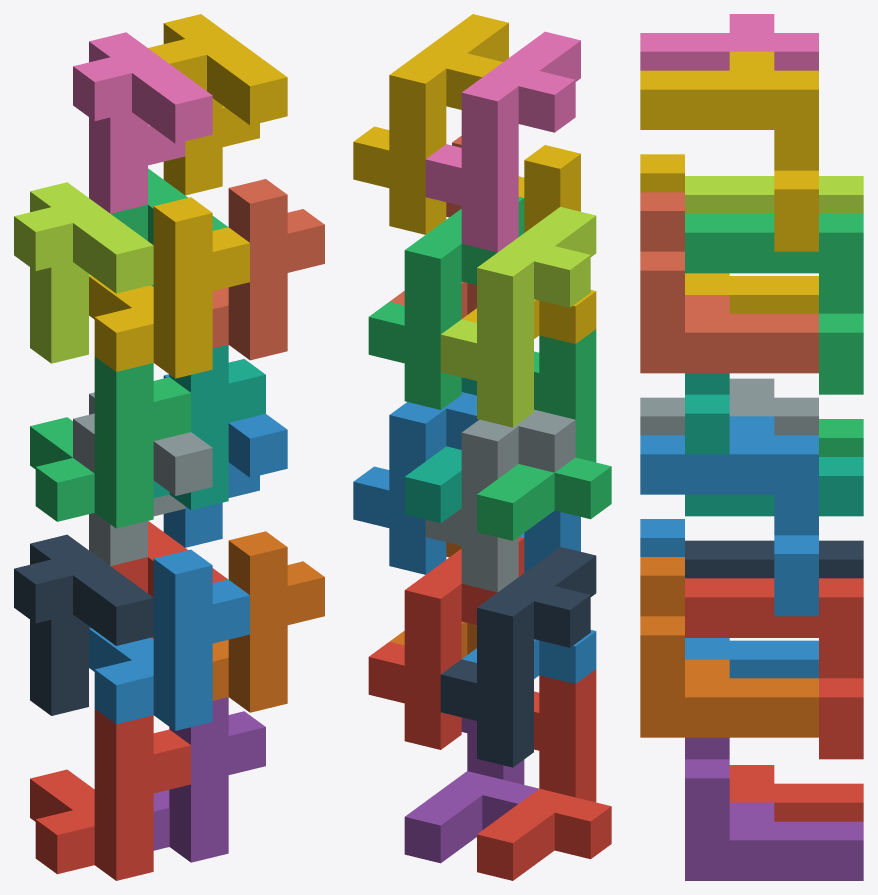
File: tiling.obj
The picture shows the model from 3 angles, left to right: view 1: azimuth 30°, elevation 25°; view 2: azimuth 150°, elevation 25°; view 3: azimuth 270°, elevation 25°; orthographic projection. The views are drawn at different scales.
Parts seen in each view (by area): view 1: copy_1_domain_1, copy_1_domain_2, copy_1_domain_4, copy_1_domain_3, copy_2_domain_4, copy_2_domain_1, copy_2_domain_3, copy_2_domain_8, copy_1_domain_6, copy_1_domain_8, copy_1_domain_5, copy_2_domain_2 (+4 smaller); view 2: copy_2_domain_4, copy_2_domain_3, copy_2_domain_1, copy_1_domain_1, copy_2_domain_8, copy_1_domain_3, copy_2_domain_7, copy_2_domain_5, copy_2_domain_2, copy_2_domain_6, copy_1_domain_5, copy_1_domain_4 (+4 smaller); view 3: copy_1_domain_8, copy_2_domain_8, copy_1_domain_6, copy_2_domain_6, copy_1_domain_5, copy_2_domain_5, copy_2_domain_7, copy_1_domain_7, copy_2_domain_4, copy_1_domain_2, copy_1_domain_4, copy_2_domain_2 (+4 smaller).
Boxes of the visible parts, x1=… form: copy_1_domain_1: x1=30, y1=709, x2=190, y2=880; copy_1_domain_2: x1=89, y1=549, x2=249, y2=730; copy_1_domain_4: x1=89, y1=197, x2=249, y2=378; copy_1_domain_3: x1=30, y1=356, x2=190, y2=528; copy_2_domain_4: x1=73, y1=32, x2=212, y2=213; copy_2_domain_1: x1=14, y1=534, x2=153, y2=715; copy_2_domain_3: x1=14, y1=182, x2=153, y2=363; copy_2_domain_8: x1=148, y1=14, x2=287, y2=195; copy_1_domain_6: x1=212, y1=531, x2=324, y2=712; copy_1_domain_8: x1=212, y1=179, x2=324, y2=360; copy_1_domain_5: x1=153, y1=697, x2=265, y2=862; copy_2_domain_2: x1=73, y1=392, x2=212, y2=565; copy_2_domain_4: x1=425, y1=31, x2=580, y2=252; copy_2_domain_3: x1=440, y1=207, x2=596, y2=427; copy_2_domain_1: x1=440, y1=546, x2=596, y2=767; copy_1_domain_1: x1=477, y1=669, x2=611, y2=880; copy_2_domain_8: x1=353, y1=14, x2=508, y2=234; copy_1_domain_3: x1=477, y1=329, x2=611, y2=540; copy_2_domain_7: x1=368, y1=196, x2=524, y2=409; copy_2_domain_5: x1=368, y1=536, x2=524, y2=749; copy_2_domain_2: x1=425, y1=409, x2=575, y2=592; copy_2_domain_6: x1=353, y1=392, x2=478, y2=574; copy_1_domain_5: x1=404, y1=717, x2=538, y2=863; copy_1_domain_4: x1=462, y1=145, x2=596, y2=343; copy_1_domain_8: x1=640, y1=192, x2=818, y2=373; copy_2_domain_8: x1=640, y1=51, x2=818, y2=251; copy_1_domain_6: x1=640, y1=557, x2=818, y2=737; copy_2_domain_6: x1=640, y1=416, x2=818, y2=616; copy_1_domain_5: x1=685, y1=737, x2=863, y2=880; copy_2_domain_5: x1=685, y1=578, x2=863, y2=759; copy_2_domain_7: x1=685, y1=214, x2=863, y2=394; copy_1_domain_7: x1=685, y1=373, x2=863, y2=516; copy_2_domain_4: x1=640, y1=14, x2=818, y2=70; copy_1_domain_2: x1=640, y1=519, x2=818, y2=678; copy_1_domain_4: x1=640, y1=154, x2=818, y2=313; copy_2_domain_2: x1=640, y1=378, x2=818, y2=435.
Size of the model in its own units: 6 by 20 by 5.
